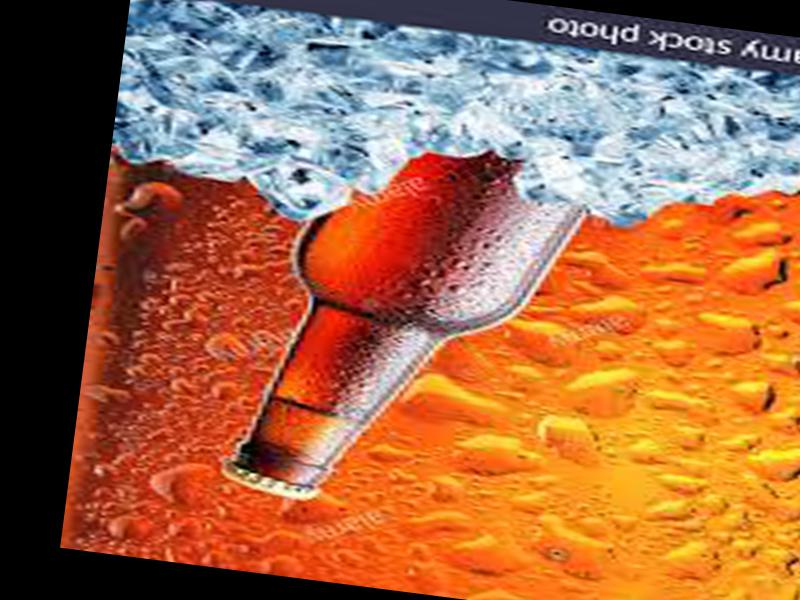Beer: (202, 117, 588, 530)
